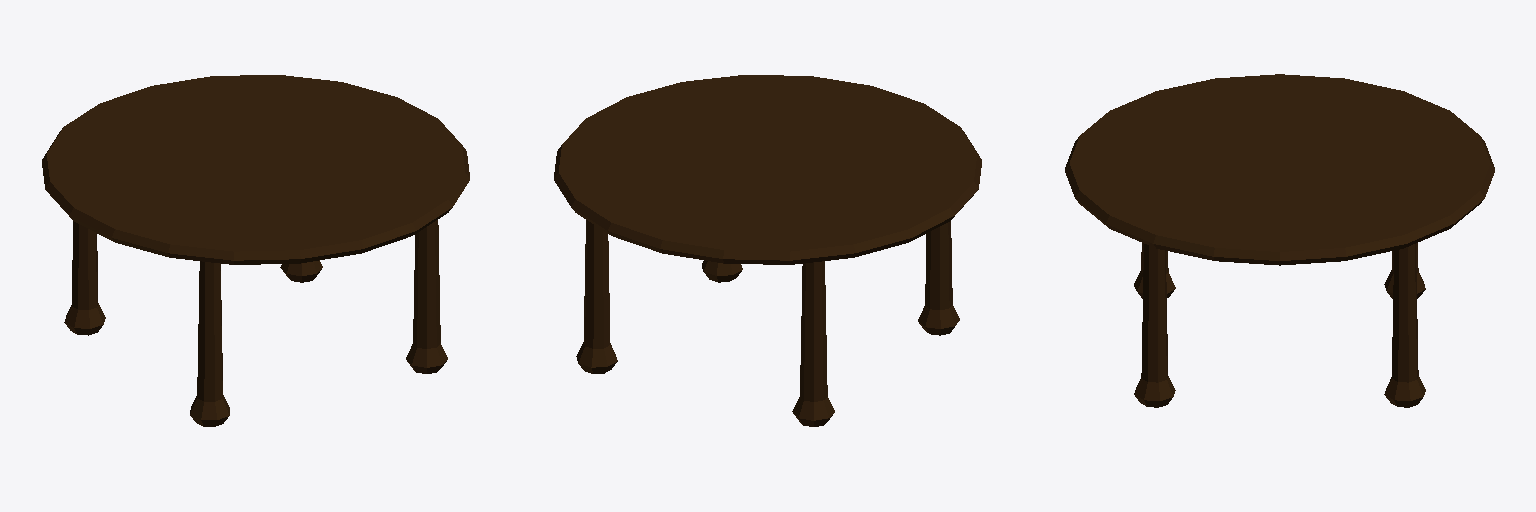
The model's file is tableexport.obj.
3 views of the same model, side by side, from view 1: azimuth 30°, elevation 25°; view 2: azimuth 150°, elevation 25°; view 3: azimuth 270°, elevation 25° (orthographic).
Parts seen in each view (by area): view 1: table; view 2: table; view 3: table.
Boxes of the visible parts, <box> form: table: <box>42,75,469,426</box>; table: <box>554,75,981,426</box>; table: <box>1065,74,1494,407</box>.
Bounding box in the file's own units: 10.34 × 4.91 × 10.34.